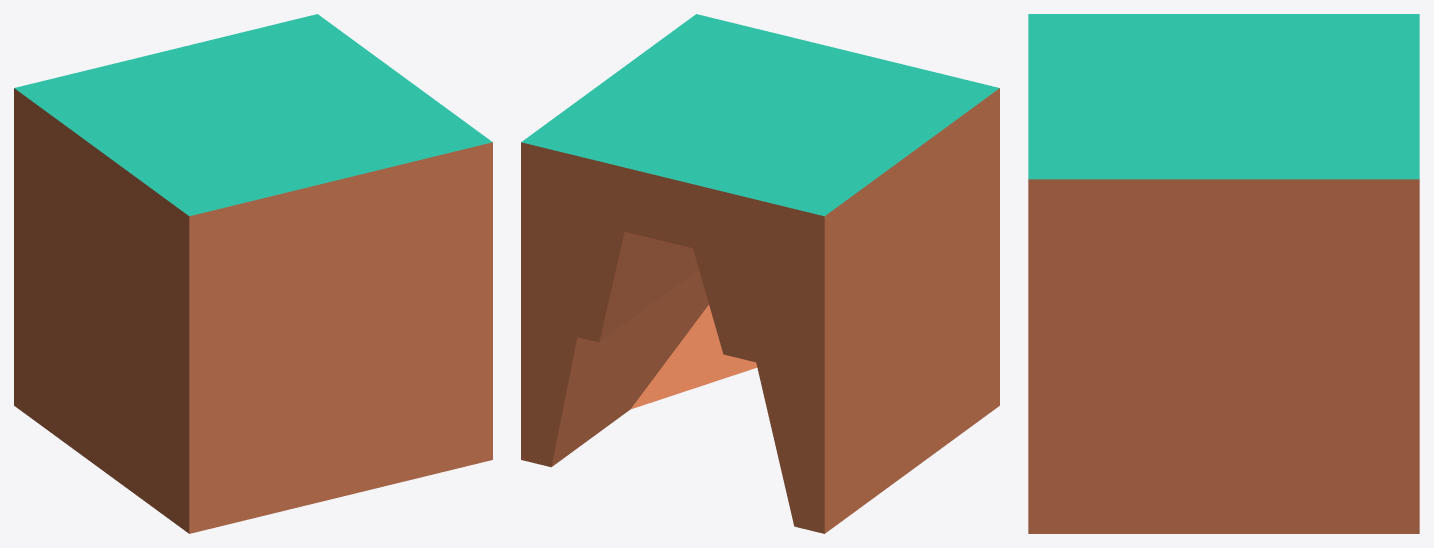
The model's file is cliff_blockCave_rock.glb.
3 renders of one model, left to right at view 1: azimuth 30°, elevation 25°; view 2: azimuth 150°, elevation 25°; view 3: azimuth 270°, elevation 25°, orthographic. The views are drawn at different scales.
Parts seen in each view (by area): view 1: cliff_blockCave_rock; view 2: cliff_blockCave_rock; view 3: cliff_blockCave_rock.
Part boxes in pixels (x1=…): cliff_blockCave_rock: x1=14, y1=14, x2=492, y2=533; cliff_blockCave_rock: x1=521, y1=14, x2=999, y2=533; cliff_blockCave_rock: x1=1028, y1=14, x2=1419, y2=533.
Bounding box in the file's own units: 1 × 1 × 1.
